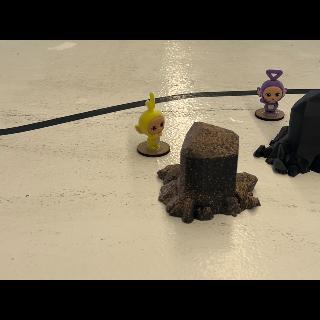teletubby: (135, 93, 165, 150), (257, 70, 287, 114)
